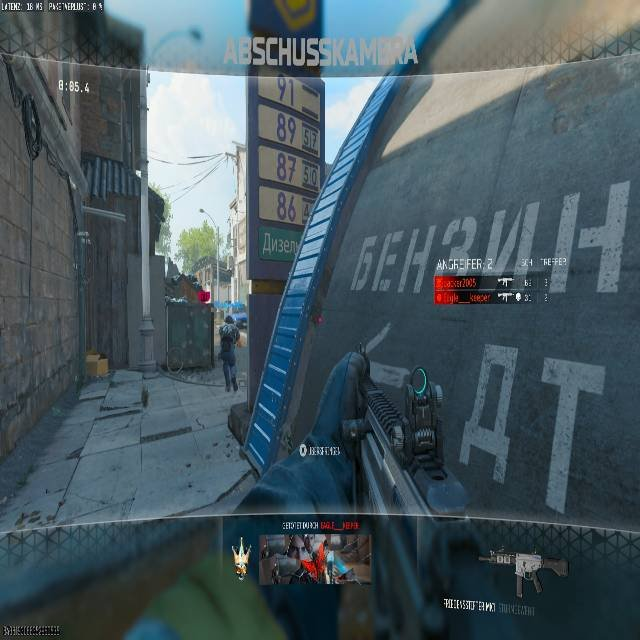head: (227, 309, 242, 326), (224, 314, 234, 324)
player: (217, 315, 244, 392)
